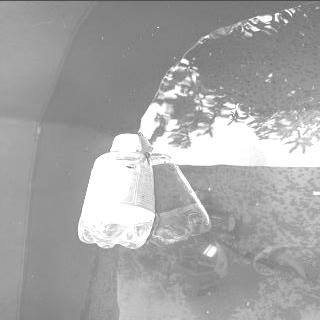bottle: (73, 130, 157, 250)
